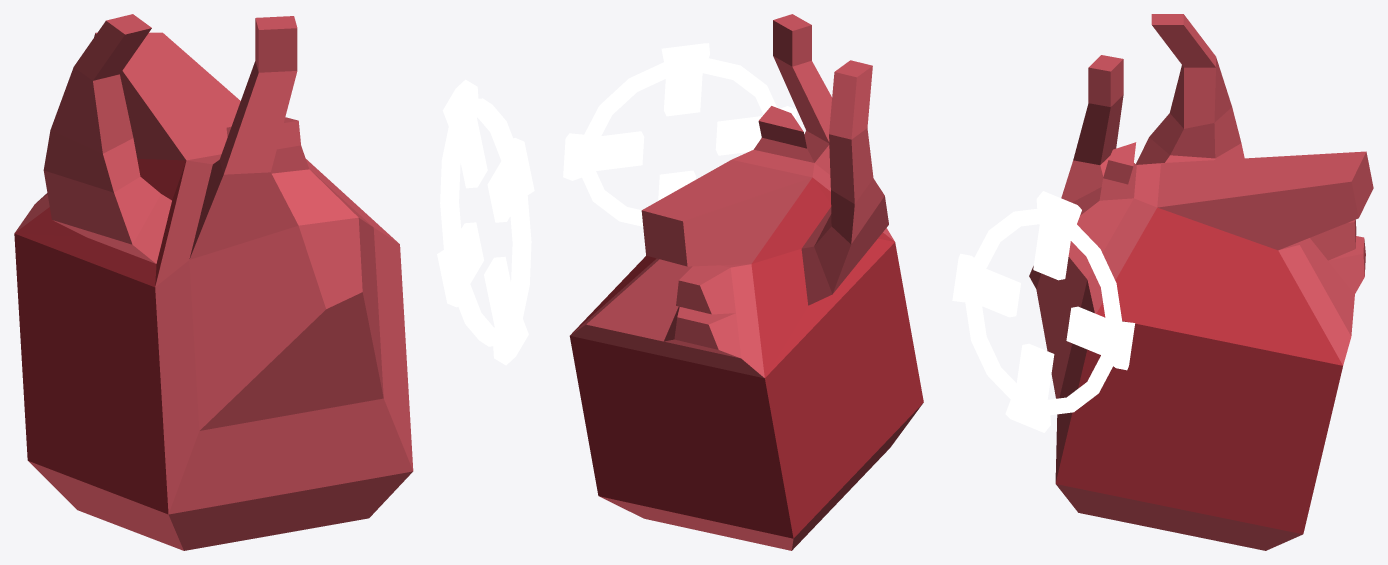
The model's file is anatomy.glb.
3 views of the same model, side by side, from view 1: azimuth 30°, elevation 25°; view 2: azimuth 150°, elevation 25°; view 3: azimuth 270°, elevation 25° (orthographic). The views are drawn at different scales.
Parts seen in each view (by area): view 1: Cube; view 2: Cube; view 3: Cube.
Boxes of the visible parts, box(x1,y1,x2,y2) form: Cube: box(14, 14, 534, 550); Cube: box(563, 14, 923, 550); Cube: box(952, 14, 1373, 550).
Size of the model in its own units: 2.05 by 2.56 by 2.15.
2 materials, 2 textured.
